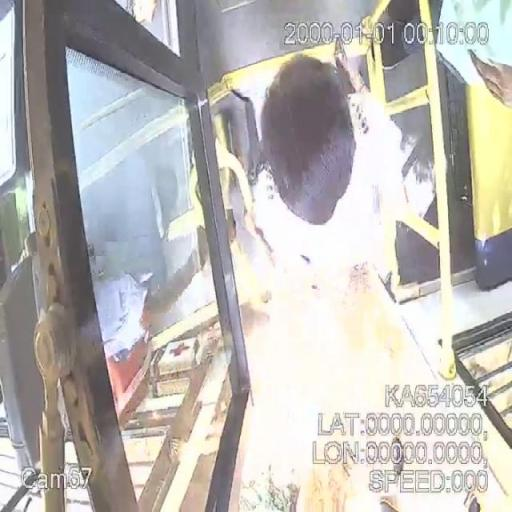persona: (238, 47, 416, 303)
